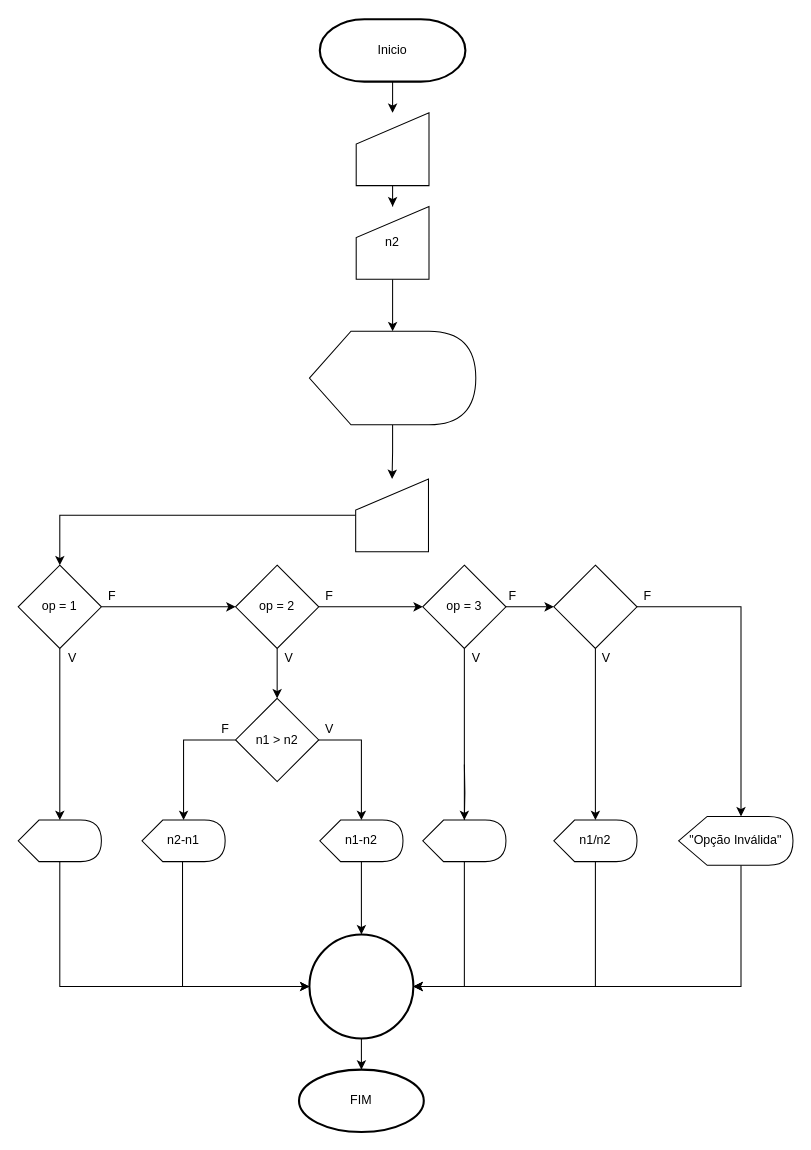
The diagram is 811 pixels wide and 1150 high, and some of its shapes have lost their labels. The shapes that lost their labels are listed below. From the top down, each one's box as (x1, y1, x2, y2) in pixels, then its label:
(355, 112, 429, 186): n1
(308, 330, 476, 425): 1 - Média 2 - Diferença 3- Produto 4 - Divisão
(355, 478, 428, 552): op
(553, 564, 637, 648): op = 4
(17, 819, 101, 862): (n1 + n2) /2
(422, 819, 506, 862): n1*n2
